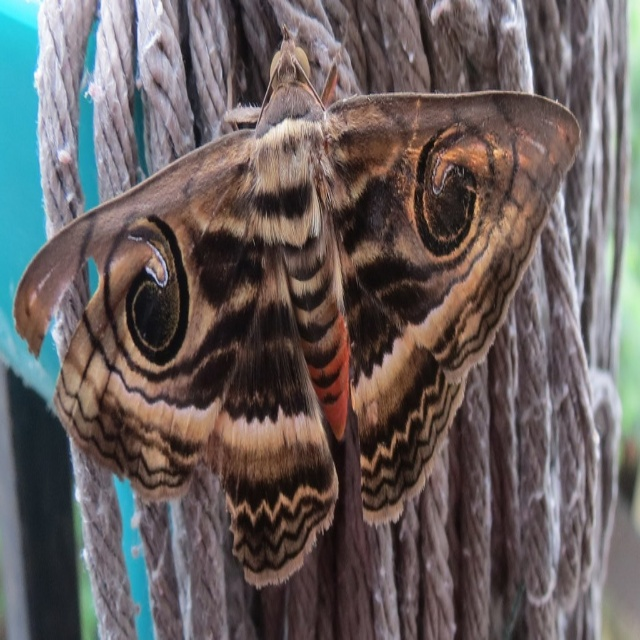Butterfly: (12, 39, 628, 623)
